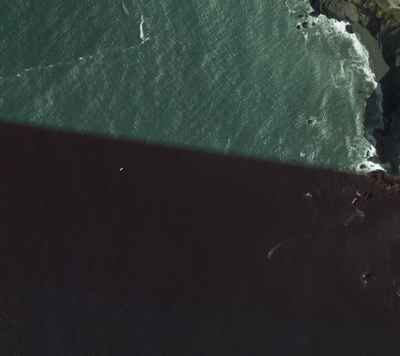boat: (268, 255, 272, 259), (120, 168, 124, 172)
